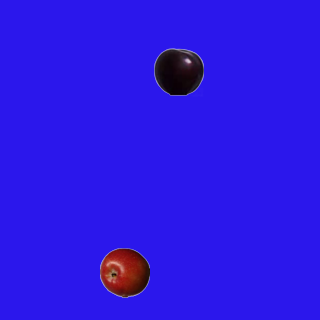Apple Braeburn: (99, 247, 149, 297)
Cherry Wax Black: (153, 46, 203, 96)
